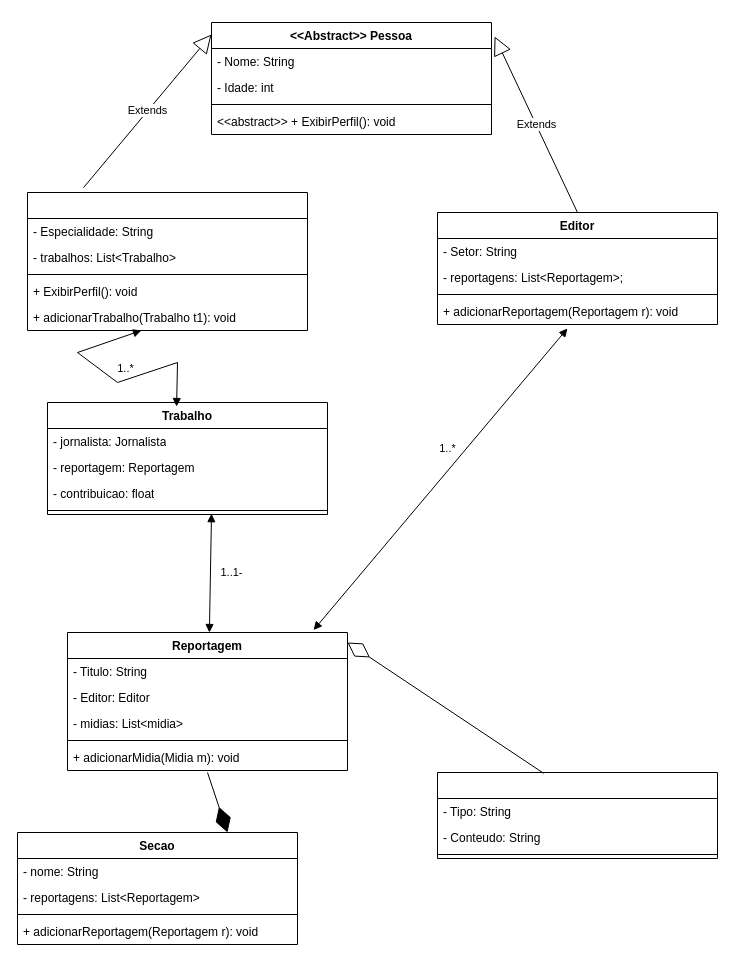
Image size: 735x965. Some labels were removed from this diagram. Here are the shapes that lost their labels. From the top down, the box of each, then its label:
(26, 192, 308, 330): Jornalista
(436, 772, 718, 858): Midia
